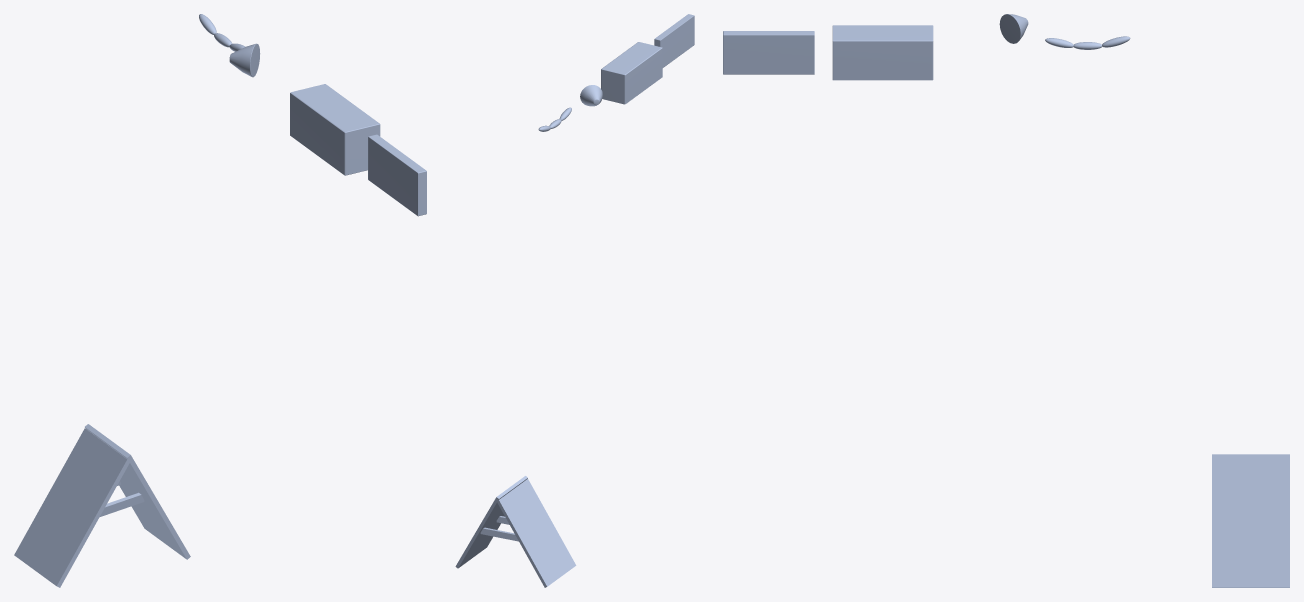
Rendered from foodboxesmeatsandsign.fbx.
3 renders of one model, left to right at view 1: azimuth 30°, elevation 25°; view 2: azimuth 150°, elevation 25°; view 3: azimuth 270°, elevation 25°, orthographic. The views are drawn at different scales.
Visible parts, largest first — view 1: pCube161, pCube151, pCube153, pCylinder58; view 2: pCube161, pCube151, pCube153, pCylinder58; view 3: pCube161, pCube151, pCube153.
Boxes of the visible parts, x1,y1,x2,y2 form: pCube161: (14, 424, 190, 587); pCube151: (290, 84, 380, 175); pCube153: (368, 134, 426, 216); pCylinder58: (229, 43, 260, 77); pCube161: (455, 476, 576, 587); pCube151: (601, 42, 662, 104); pCube153: (654, 14, 694, 67); pCylinder58: (580, 85, 602, 106); pCube161: (1212, 454, 1289, 587); pCube151: (832, 25, 933, 80); pCube153: (723, 31, 814, 74).
Bounding box in the file's own units: 442 × 1906 × 1766.
